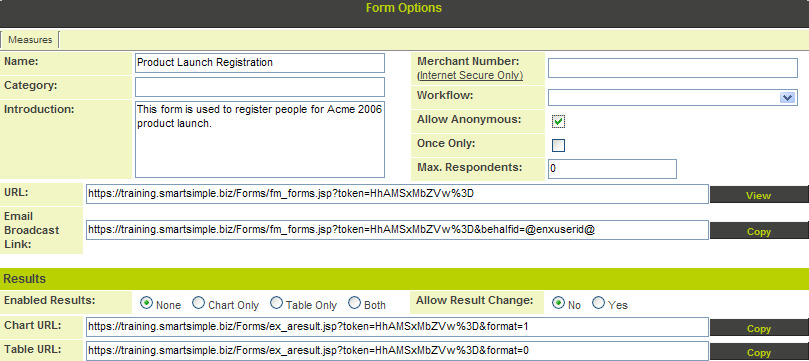_form_: (392, 1, 809, 361), (1, 1, 416, 361)
button: (708, 182, 809, 206), (708, 316, 809, 338), (708, 220, 809, 241), (710, 340, 809, 360)
checkbox: (550, 135, 570, 155), (547, 112, 568, 130)
checkbox_with_label: (416, 133, 573, 158), (417, 110, 570, 130)
field: (131, 99, 386, 181), (80, 182, 712, 207), (82, 216, 708, 241), (82, 315, 709, 338), (82, 339, 712, 361), (131, 51, 386, 76), (546, 55, 801, 80), (130, 75, 387, 96), (544, 156, 679, 182)
field_with_label: (2, 98, 388, 184), (1, 212, 709, 243), (6, 180, 712, 208), (3, 313, 711, 339), (3, 337, 709, 360), (417, 53, 803, 81), (2, 74, 389, 99), (4, 49, 388, 74), (415, 86, 801, 109), (416, 153, 682, 183)
radio: (190, 294, 209, 315), (547, 293, 567, 312), (138, 292, 155, 313), (269, 293, 285, 314), (346, 293, 361, 314), (591, 293, 606, 312)
radio_with_label: (188, 291, 261, 316), (265, 292, 335, 316), (136, 290, 182, 314), (343, 291, 386, 316), (588, 291, 627, 315), (545, 291, 580, 314)
select: (545, 88, 797, 107)
